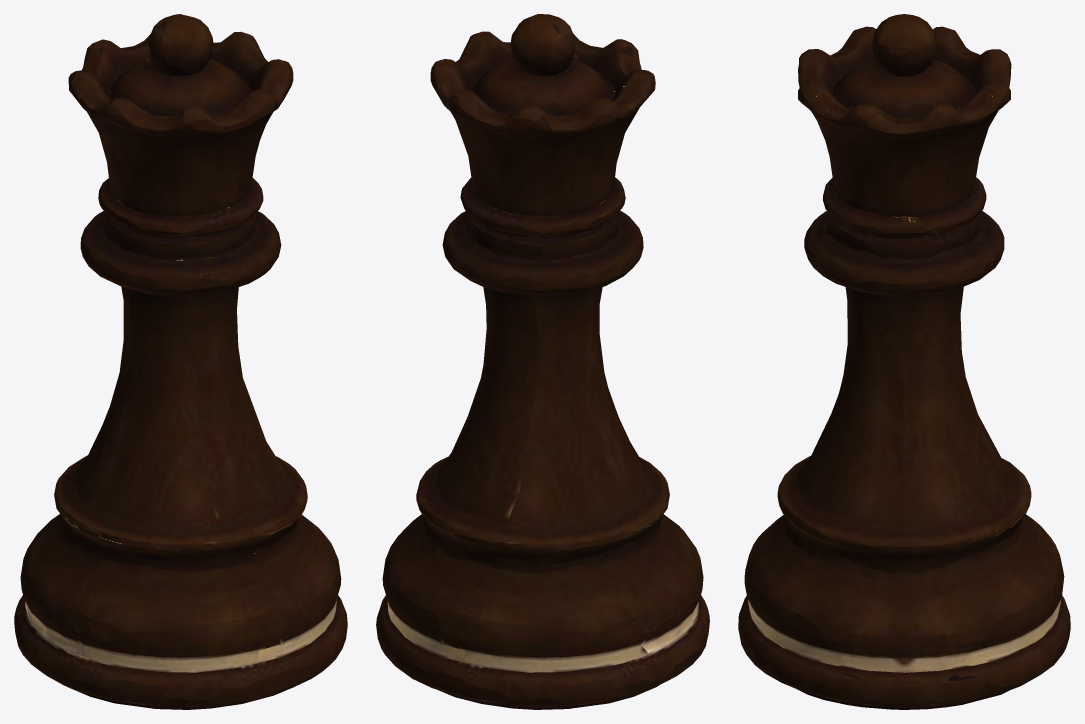
The model's file is black-queen.glb.
3 renders of one model, left to right at view 1: azimuth 30°, elevation 25°; view 2: azimuth 150°, elevation 25°; view 3: azimuth 270°, elevation 25°, orthographic.
Parts seen in each view (by area): view 1: world; view 2: world; view 3: world.
Part boxes in pixels (left/top/right/bottom): world: left=14, top=14, right=347, bottom=709; world: left=376, top=14, right=709, bottom=709; world: left=738, top=14, right=1070, bottom=709.
Size of the model in its own units: 0.48 by 1 by 0.4801.
1 material, 1 textured.
